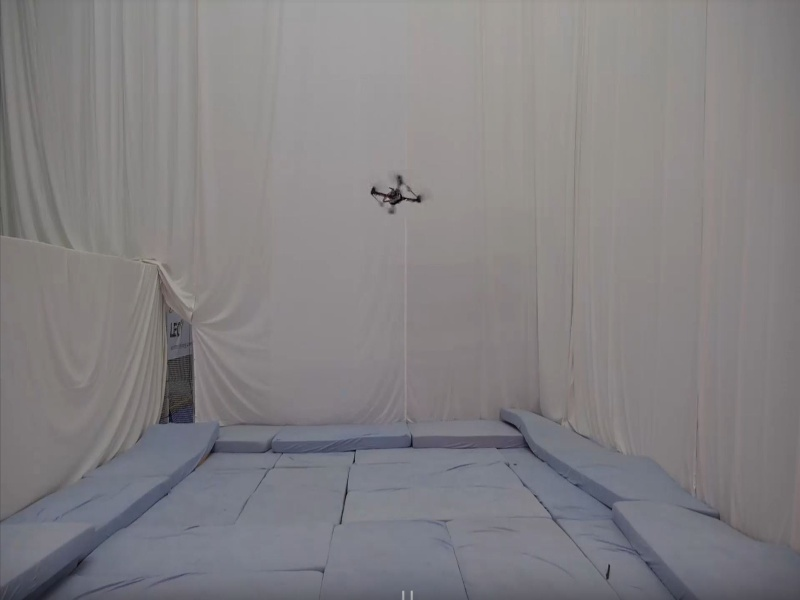drone: (360, 170, 433, 220)
